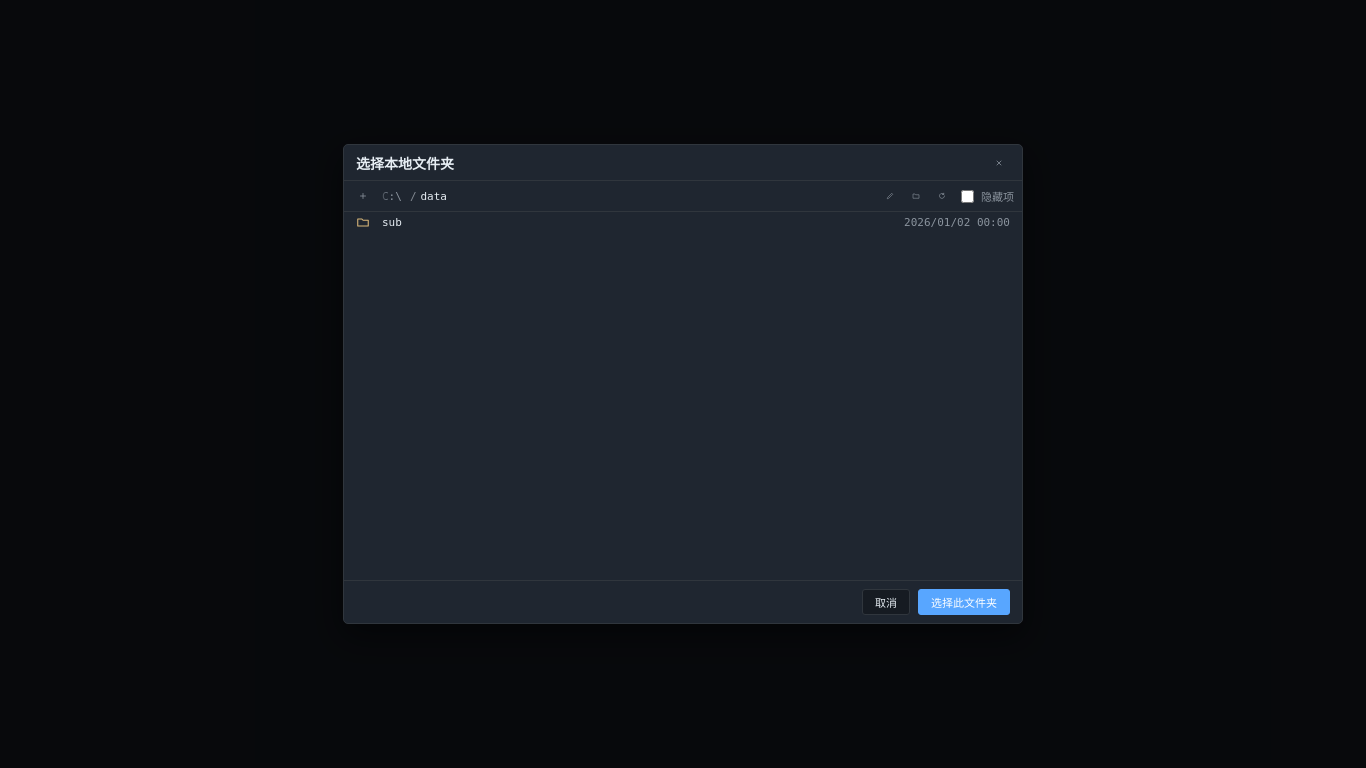
Test: LocalPathPicker › 隐藏项默认不显示，勾选后出现
Expected: the text ".git" is not shown
Step 1. Click the checkbox labelled "隐藏项" → (968, 196), box [961,190,974,202]
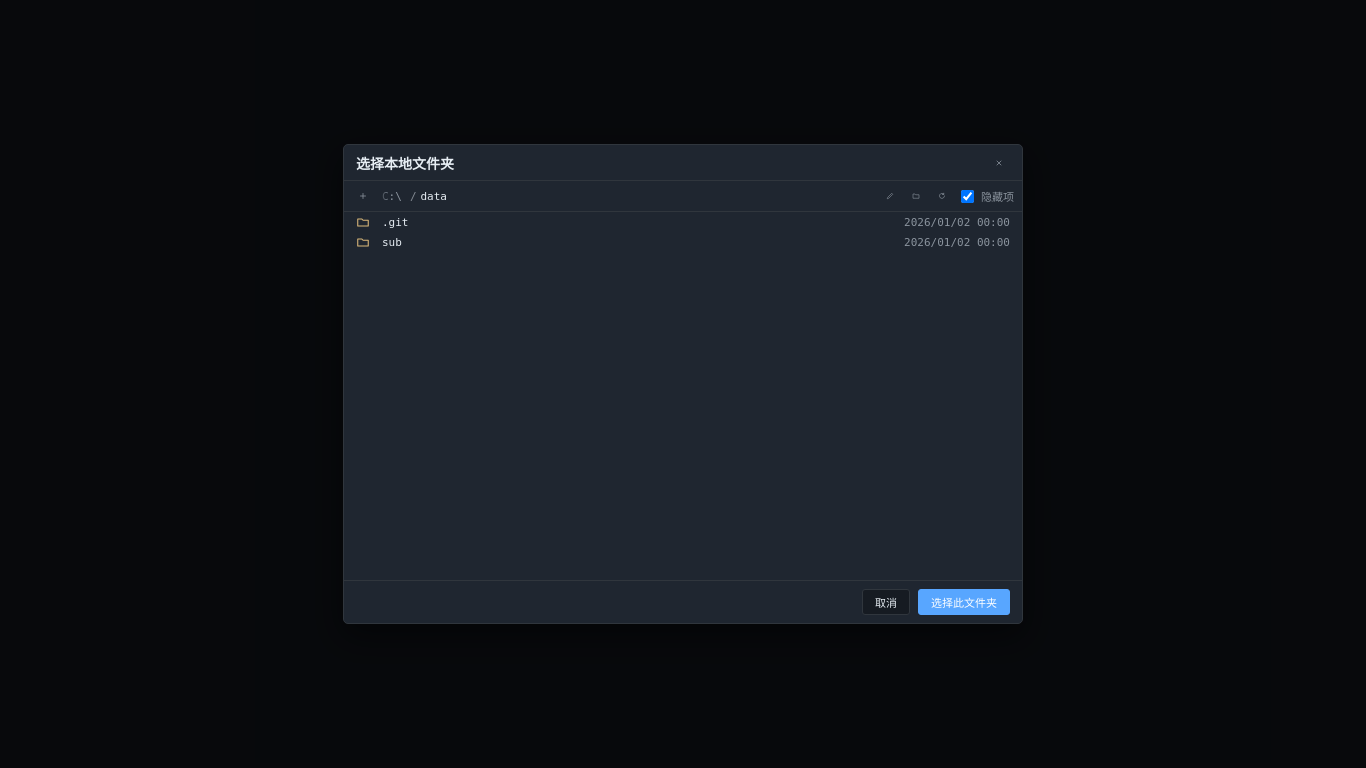
Now the text ".git" is shown, box [382,216,408,228]
